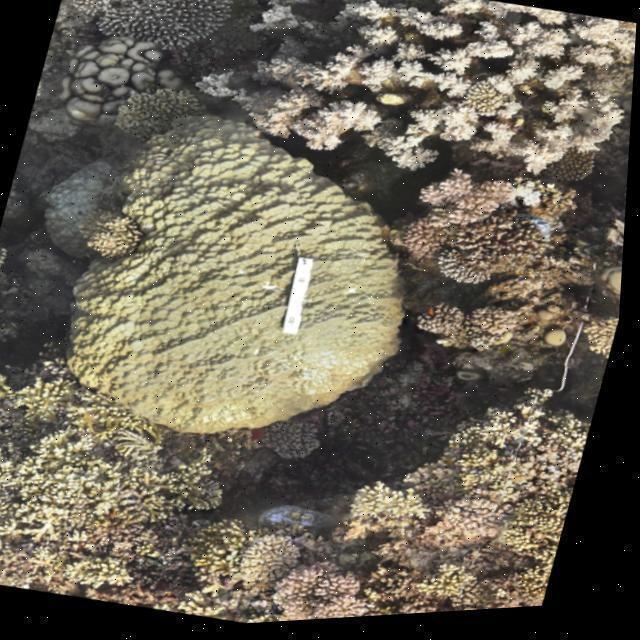Bleached Coral: (266, 0, 640, 162), (483, 162, 579, 248), (420, 239, 514, 313)
Healthy Coral: (98, 122, 428, 462), (240, 453, 564, 614), (6, 398, 220, 591), (75, 0, 253, 82)
